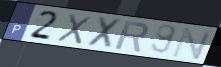2: (25, 9, 60, 42)
9: (149, 23, 179, 57)
N: (170, 26, 215, 60)
R: (113, 19, 151, 54)
X: (84, 15, 125, 51), (54, 12, 93, 46)
